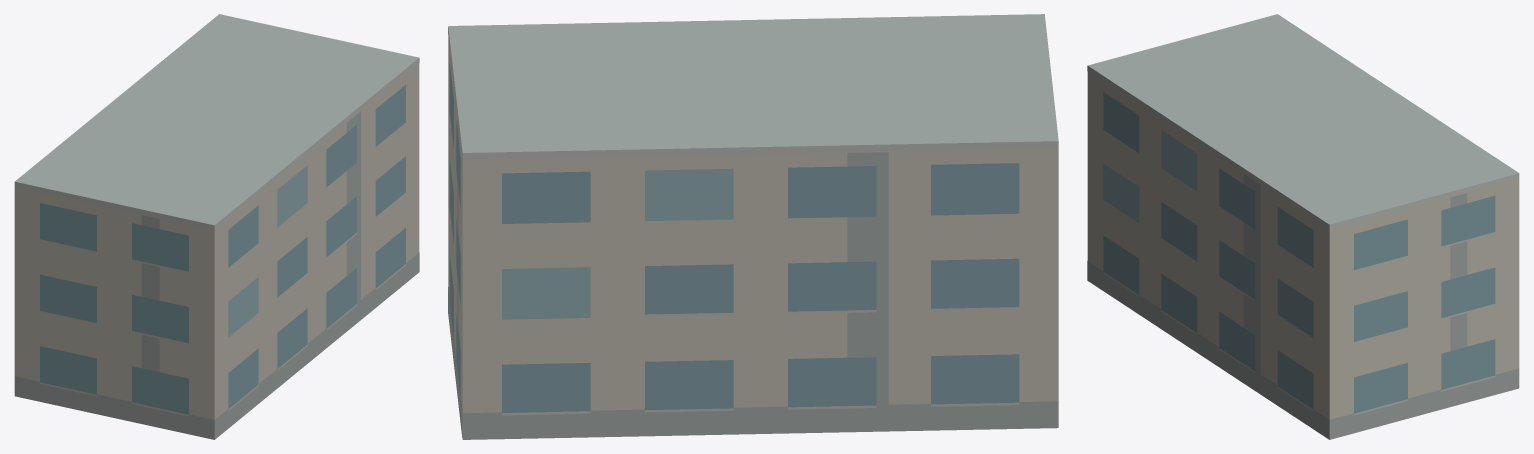
File: residential-2b34ee20-3cec-40e6-8057-779c95289997.glb
The picture shows the model from 3 angles, left to right: view 1: azimuth 30°, elevation 25°; view 2: azimuth 150°, elevation 25°; view 3: azimuth 270°, elevation 25°; orthographic projection. The views are drawn at different scales.
Visible parts, largest first — view 1: residential-2b34ee20-3cec-40e6-8057-779c95289997.tmp; view 2: residential-2b34ee20-3cec-40e6-8057-779c95289997.tmp; view 3: residential-2b34ee20-3cec-40e6-8057-779c95289997.tmp.
Part boxes in pixels (bbox=[...]): residential-2b34ee20-3cec-40e6-8057-779c95289997.tmp: bbox=[14, 14, 419, 439]; residential-2b34ee20-3cec-40e6-8057-779c95289997.tmp: bbox=[448, 14, 1058, 439]; residential-2b34ee20-3cec-40e6-8057-779c95289997.tmp: bbox=[1087, 14, 1519, 439].
Size of the model in its own units: 19.23 by 9.15 by 16.65.
